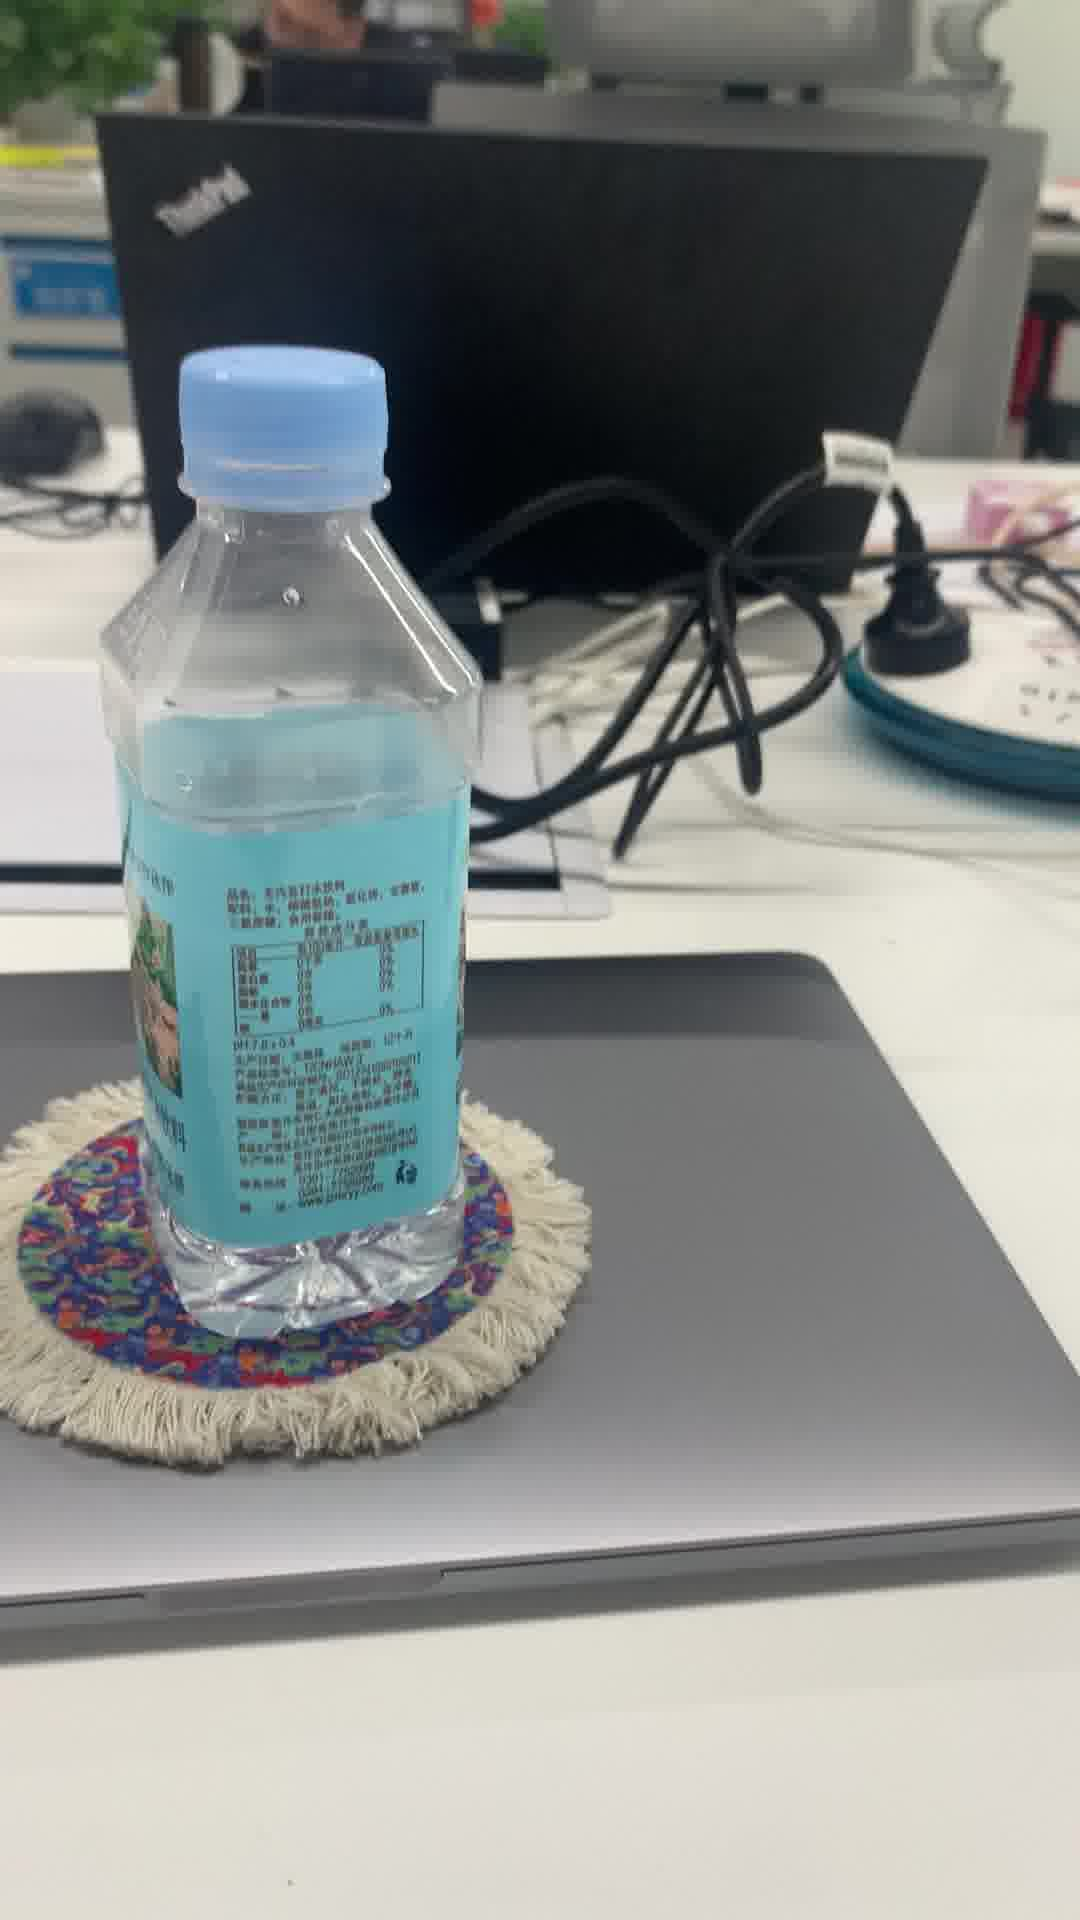水瓶: (95, 330, 481, 1340)
